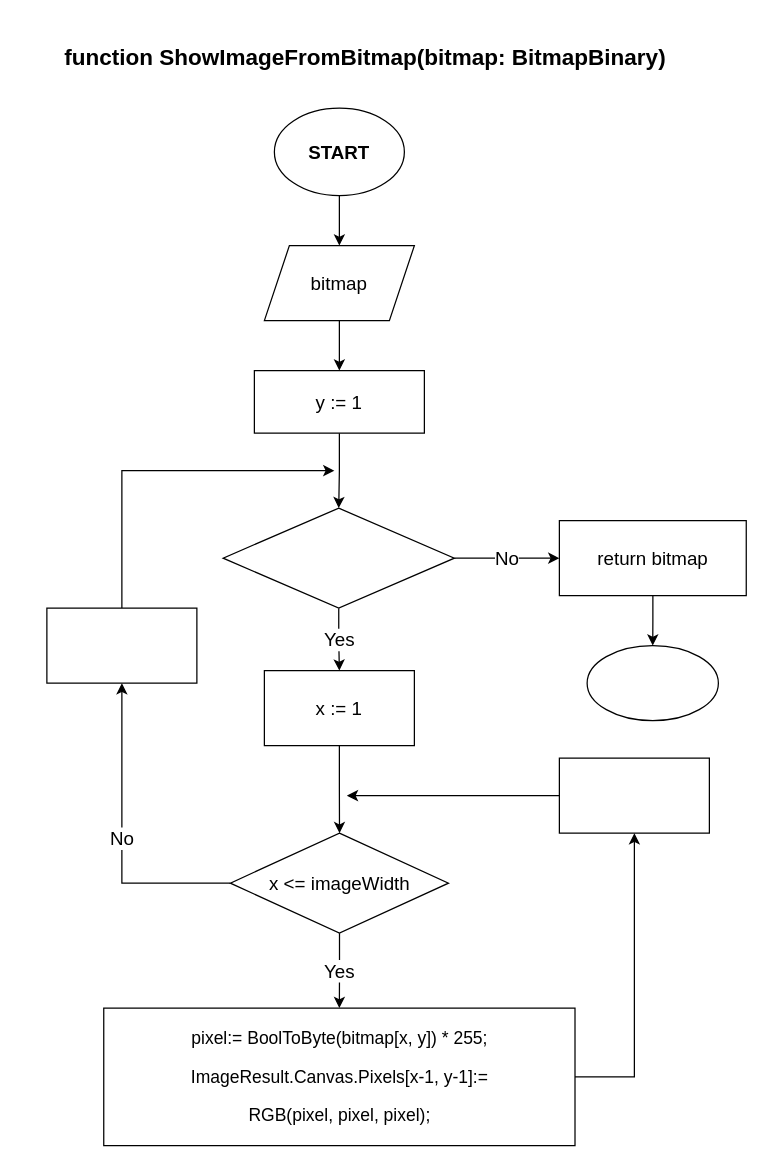
The diagram is 768 pixels wide and 1168 high, and some of its shapes have lost their labels. Here are the shapes that lost their labels. From the top down, the centre of each, then its label:
the point at 338,557: y <= imageHeight
the point at 121,645: y := y + 1
the point at 652,682: END
the point at 633,795: x = x + 1
